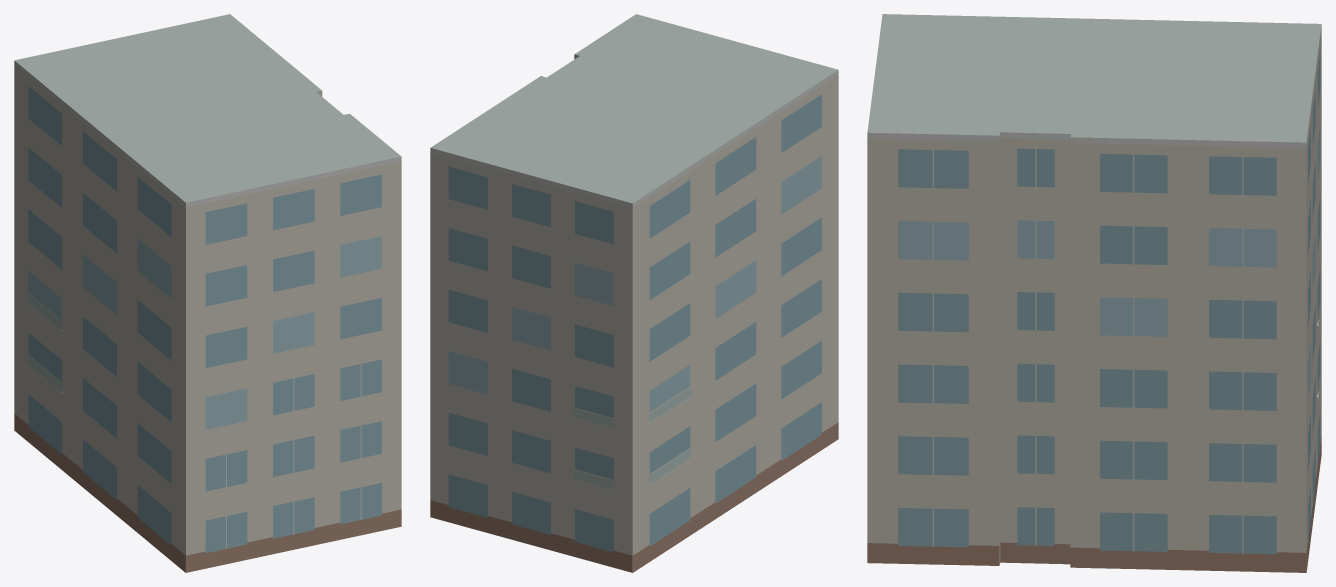
The model's file is survey-upis-32668923.glb.
The picture shows the model from 3 angles, left to right: view 1: azimuth 30°, elevation 25°; view 2: azimuth 150°, elevation 25°; view 3: azimuth 270°, elevation 25°; orthographic projection. The views are drawn at different scales.
Visible parts, largest first — view 1: survey-upis-32668923.tmp; view 2: survey-upis-32668923.tmp; view 3: survey-upis-32668923.tmp.
Part boxes in pixels (x1,y1,x2,y2): survey-upis-32668923.tmp: (14,14,401,572); survey-upis-32668923.tmp: (430,14,838,572); survey-upis-32668923.tmp: (867,14,1321,572).
Size of the model in its own units: 11.74 by 18.3 by 17.52.
